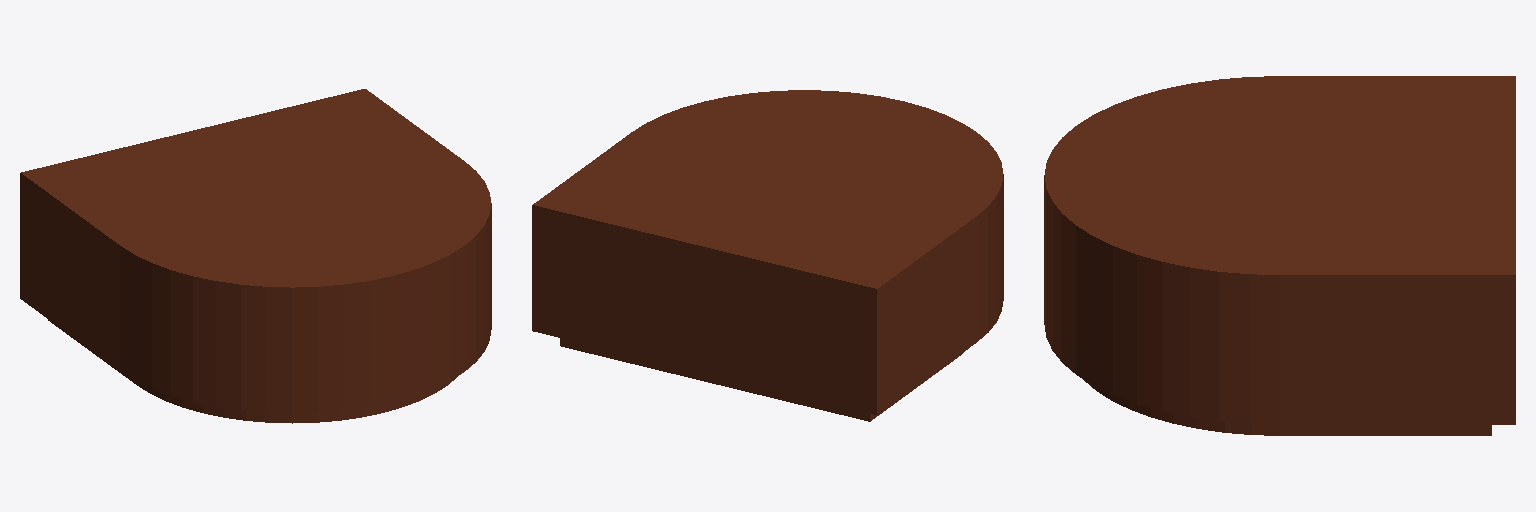
URDF robot description (24246__reddish_brown):
<?xml version="1.0"?>
<robot name="24246__reddish_brown">
  <link name="24246__reddish_brown">
    <inertial>
      <origin xyz="-0.000000 0.000406 -0.001377" rpy="0 0 0"/>
      <mass value="0.000153"/>
      <inertia ixx="9.036803499e-10" ixy="8.692770639e-27" ixz="-7.147934925e-27" iyy="9.288905091e-10" iyz="4.135112173e-12" izz="1.597359465e-09"/>
    </inertial>
    <visual>
      <geometry>
        <mesh filename="../meshes/visual/24246.obj" scale="1 1 1"/>
      </geometry>
      <material name="24246__reddish_brown_color">
        <color rgba="0.430 0.230 0.150 1.000"/>
      </material>
    </visual>
    <collision>
      <geometry>
        <mesh filename="../meshes/collision/24246_hull.obj" scale="1 1 1"/>
      </geometry>
    </collision>
  </link>
</robot>

--- Facts derived from the render (not from the file) ---
3 views of the same robot in one strip: view 1: azimuth 30°, elevation 25°; view 2: azimuth 150°, elevation 25°; view 3: azimuth 270°, elevation 25° (orthographic).
Model 24246__reddish_brown with 1 links and 0 joints (none), rooted at 24246__reddish_brown, posed all joints at 0.
Visible links, largest first — view 1: 24246__reddish_brown; view 2: 24246__reddish_brown; view 3: 24246__reddish_brown.
Boxes of the visible links, left/top/right/bottom form: 24246__reddish_brown: left=20, top=89, right=491, bottom=423; 24246__reddish_brown: left=532, top=90, right=1003, bottom=421; 24246__reddish_brown: left=1044, top=76, right=1515, bottom=435.
Bounding box of the posed robot: 0.008 × 0.008 × 0.0032 m (x, y, z).
1 mesh visuals loaded from 1 distinct referenced files (1 OBJ).
